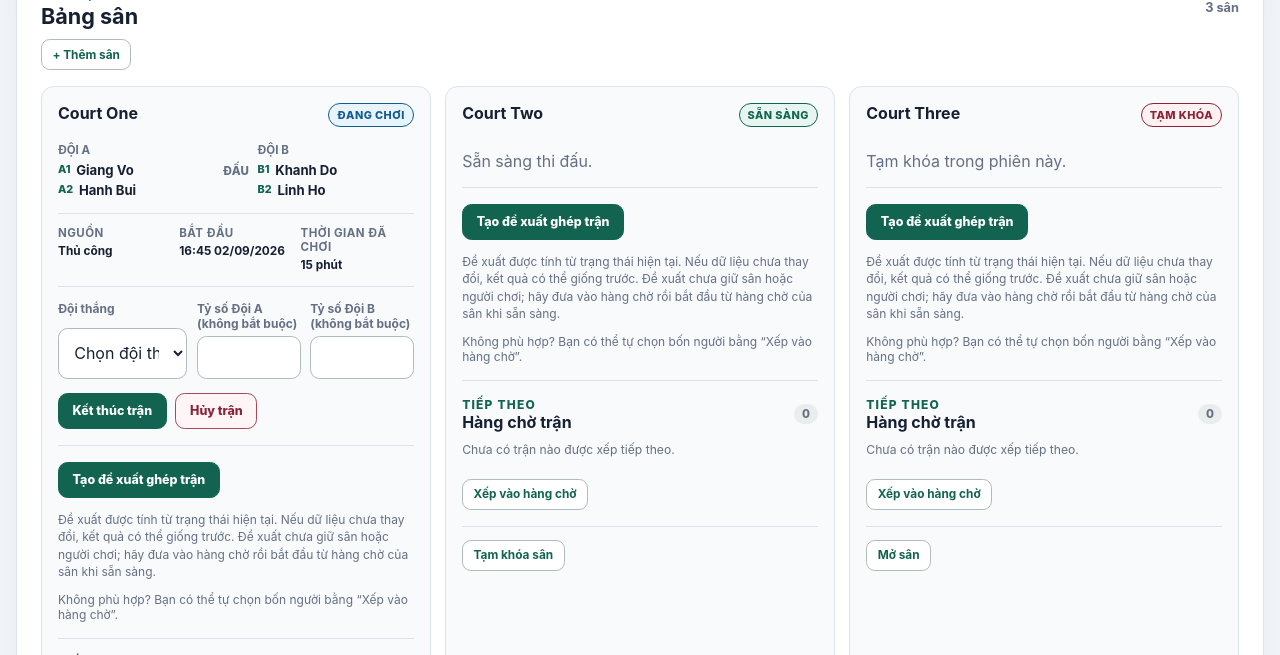
Complete Match result form › rejects negative score without a POST
(page scrolled)
Select "Đội A" in the dropdown labelled "Đội thắng" at (123, 353), box top-left (58, 328), bottom-right (187, 379)
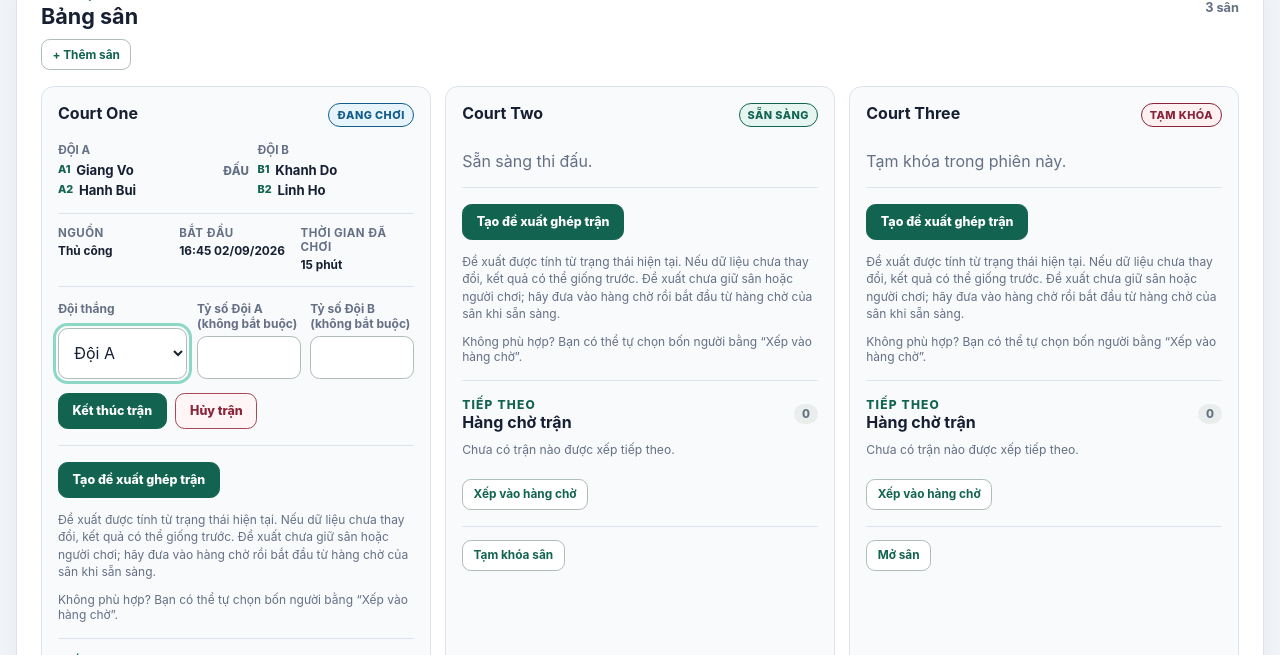
Type "-1" into the number field labelled "Tỷ số Đội A (không bắt buộc)" at (249, 358), box top-left (197, 336), bottom-right (300, 379)
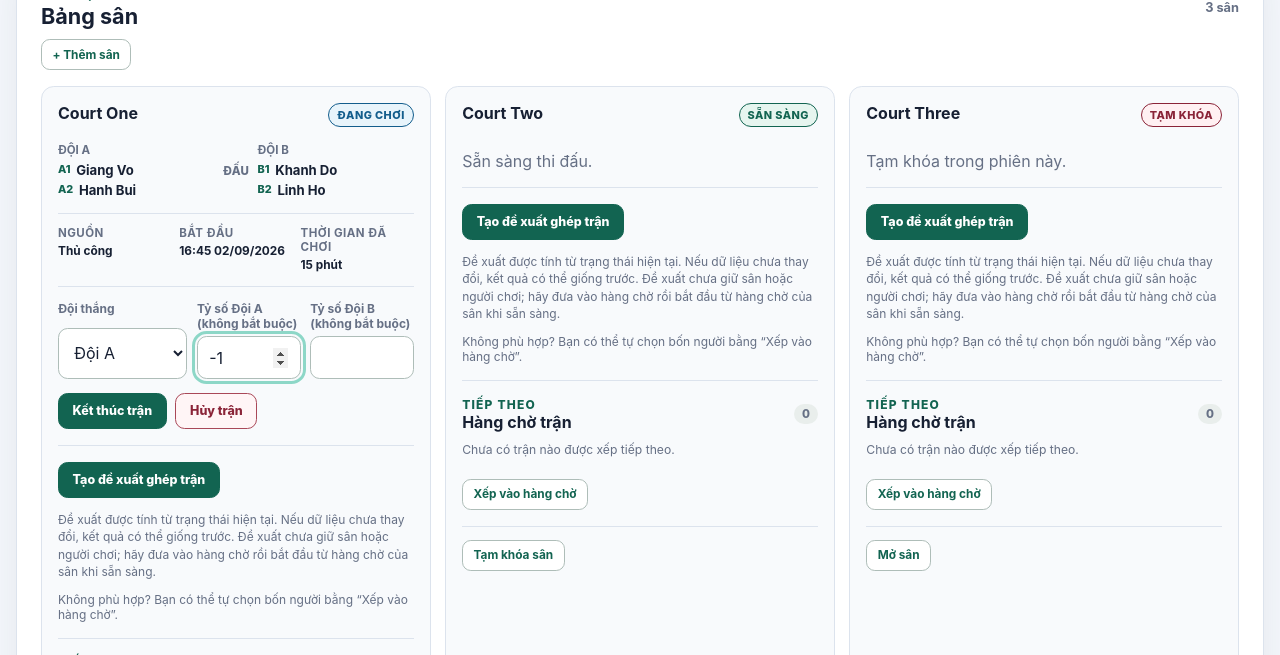
Type "0" into the number field labelled "Tỷ số Đội B (không bắt buộc)" at (362, 358), box top-left (310, 336), bottom-right (414, 379)
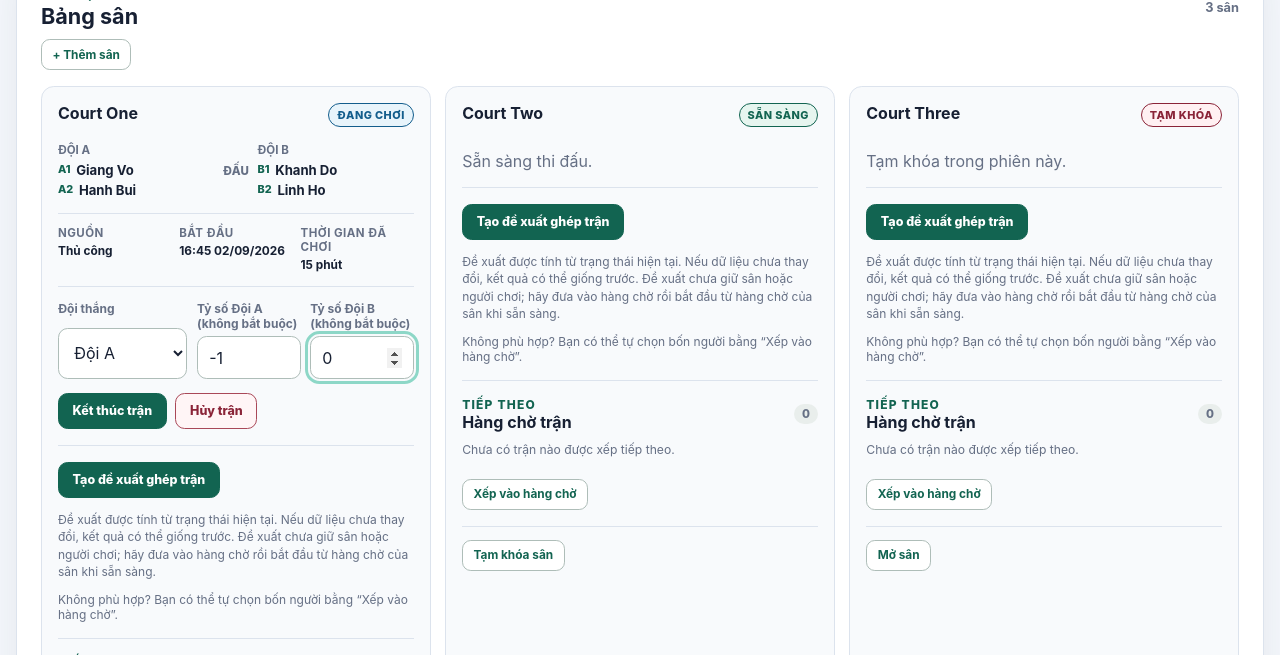
Click the button "Kết thúc trận" at (112, 411), box top-left (58, 393), bottom-right (167, 429)
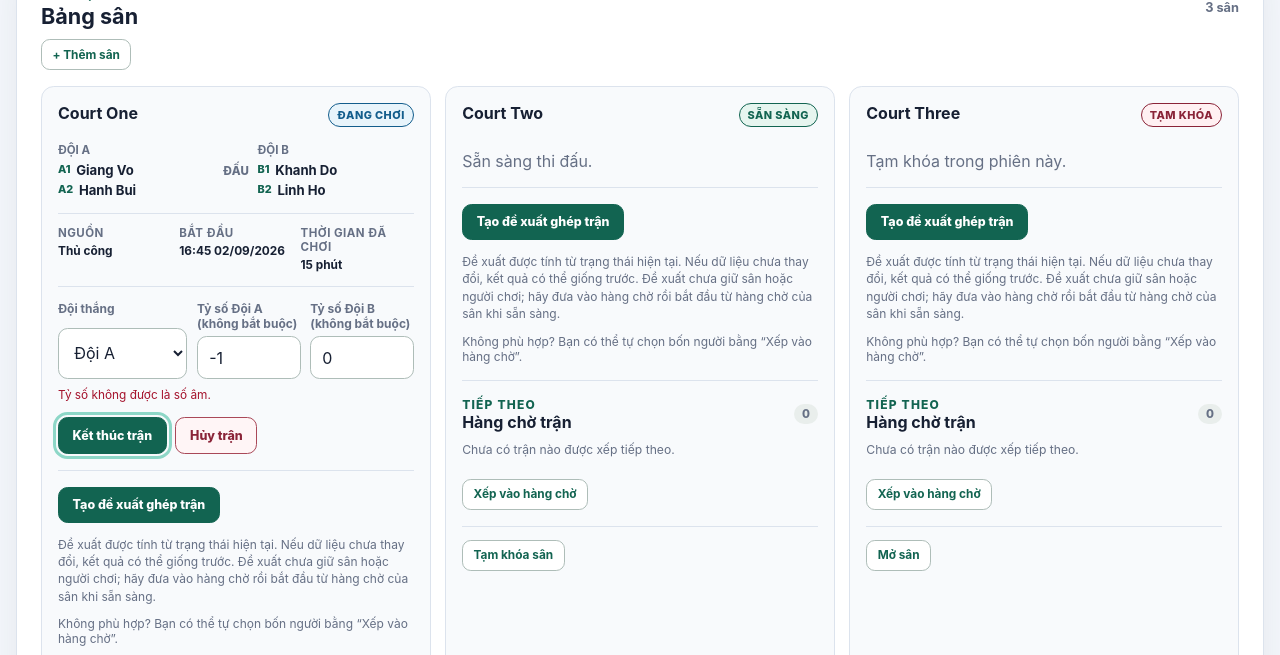
Check: the message reads "Tỷ số không được là số âm.", box top-left (58, 388), bottom-right (211, 402)
